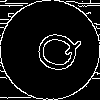Q: (25, 25, 83, 77)
